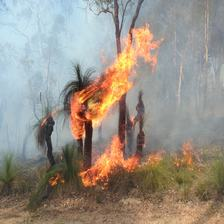fire: (43, 23, 172, 137), (34, 137, 199, 191)
